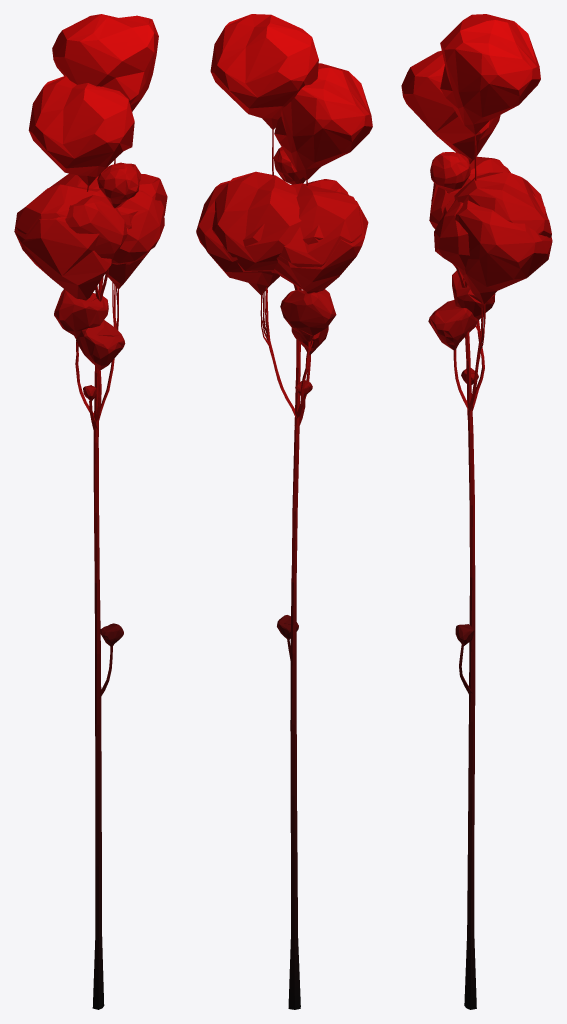
The model's file is TreeBirchTall08.fbx.
The picture shows the model from 3 angles, left to right: view 1: azimuth 30°, elevation 25°; view 2: azimuth 150°, elevation 25°; view 3: azimuth 270°, elevation 25°; orthographic projection.
Parts seen in each view (by area): view 1: TreeBirchTall08_LOD0; view 2: TreeBirchTall08_LOD0; view 3: TreeBirchTall08_LOD0.
Part boxes in pixels (bbox=[...]): TreeBirchTall08_LOD0: bbox=[14, 14, 167, 1009]; TreeBirchTall08_LOD0: bbox=[196, 14, 372, 1009]; TreeBirchTall08_LOD0: bbox=[401, 14, 552, 1009].
Size of what is drawn, in the model's own units: 393 by 2464 by 339.
